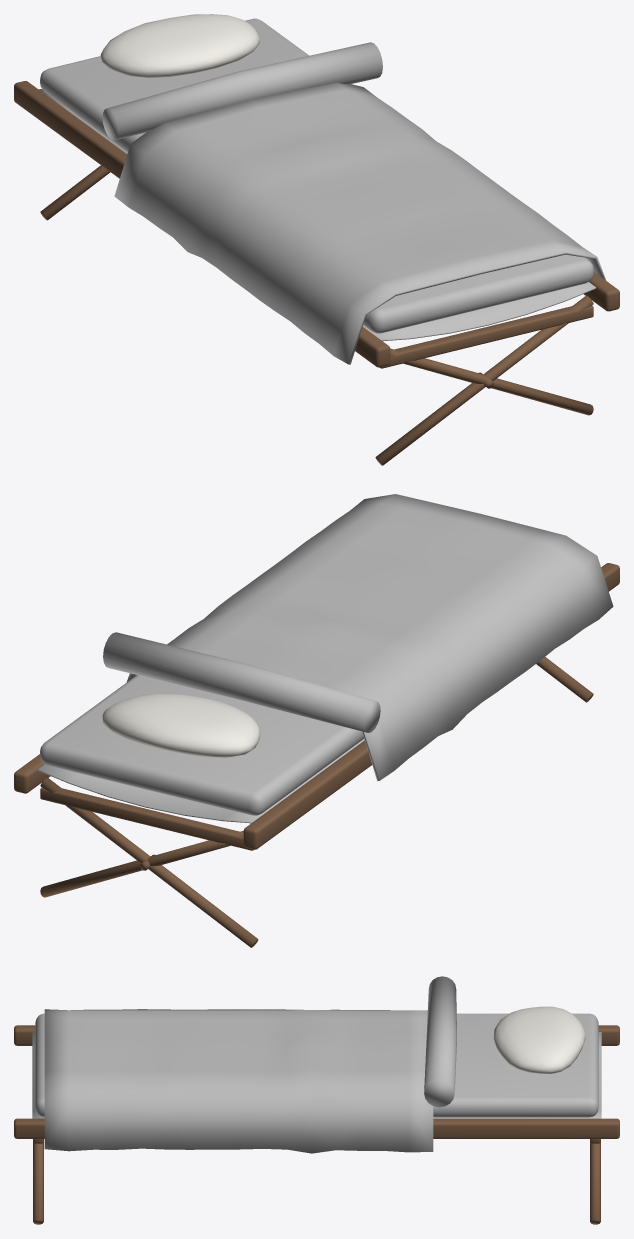
The model's file is fx_cot.glb.
The picture shows the model from 3 angles, top to bottom: view 1: azimuth 30°, elevation 25°; view 2: azimuth 150°, elevation 25°; view 3: azimuth 270°, elevation 25°; orthographic projection. The views are drawn at different scales.
Visible parts, largest first — view 1: fx_cot; view 2: fx_cot; view 3: fx_cot.
Part boxes in pixels (bbox=[...]): fx_cot: bbox=[14, 14, 619, 465]; fx_cot: bbox=[14, 494, 619, 947]; fx_cot: bbox=[14, 976, 619, 1224].
Bounding box in the file's own units: 0.8316 × 0.5678 × 1.98.
